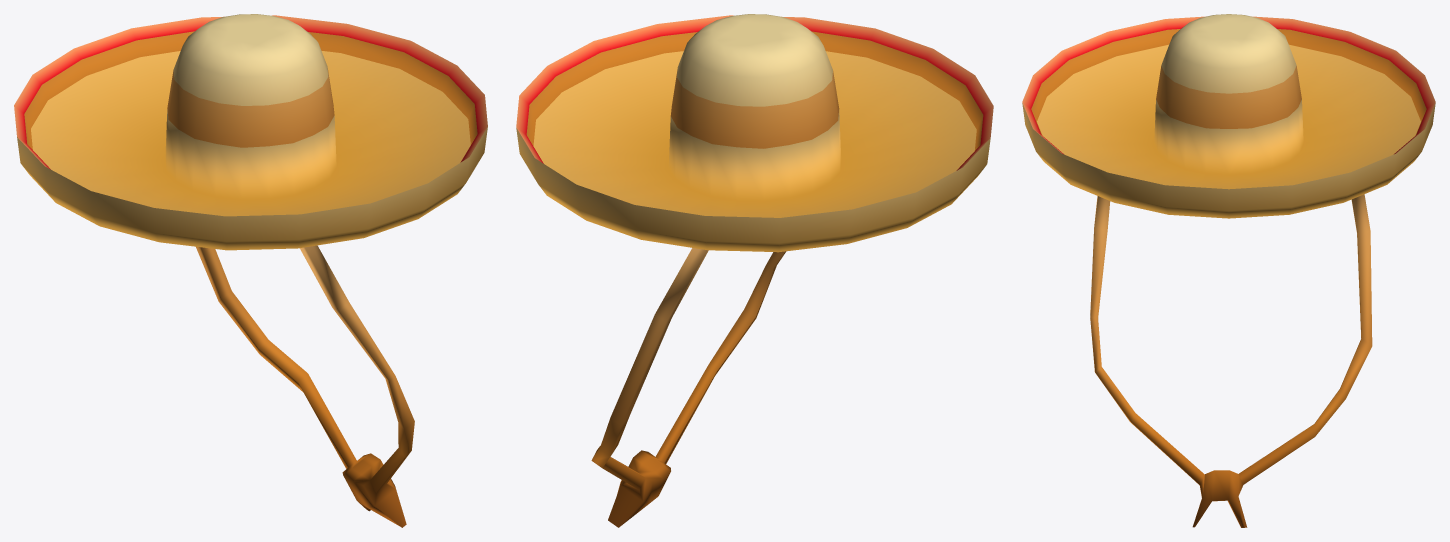
The model's file is Sombrero.fbx.
3 views of the same model, side by side, from view 1: azimuth 30°, elevation 25°; view 2: azimuth 150°, elevation 25°; view 3: azimuth 270°, elevation 25° (orthographic). The views are drawn at different scales.
Visible parts, largest first — view 1: Sombrero; view 2: Sombrero; view 3: Sombrero.
Boxes of the visible parts, box(x1,y1,x2,y2) form: Sombrero: box(14, 14, 487, 527); Sombrero: box(516, 14, 993, 527); Sombrero: box(1022, 14, 1435, 527).
Bounding box in the file's own units: 416 × 495 × 417.
1 material, 1 textured.
